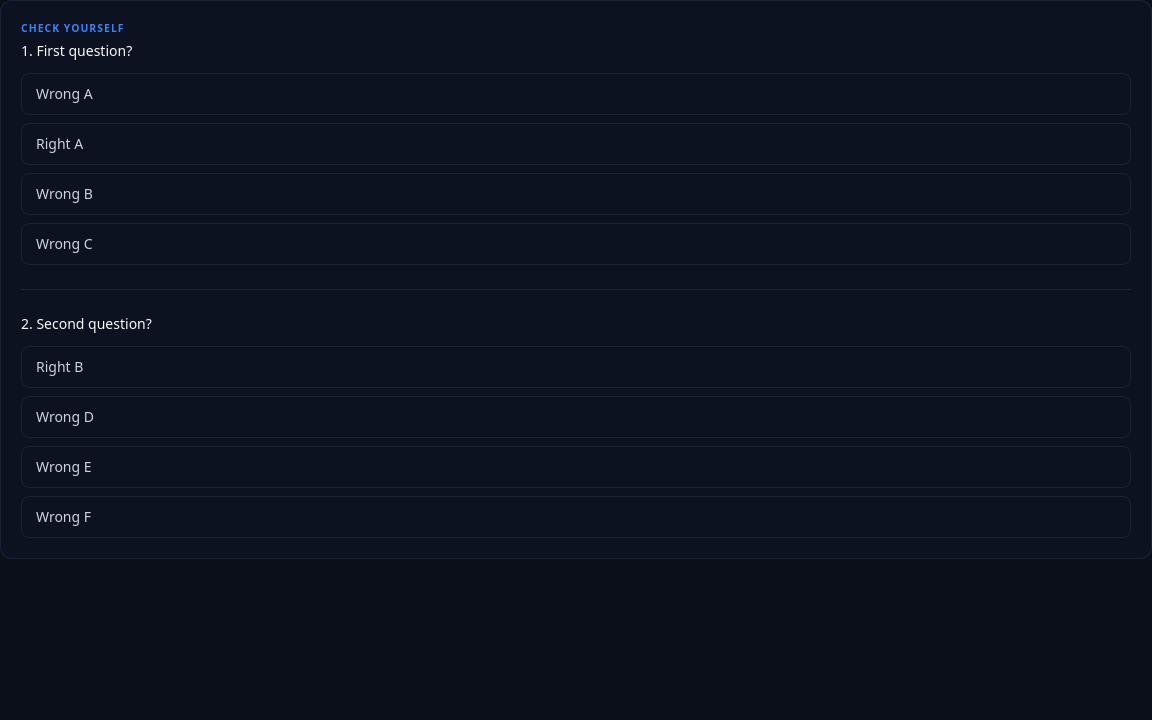
Test case: CheckYourselfQuiz › marks a correct pick as correct and updates the score
Click the button "Right A" at (60, 143), box [21,123,1131,165]
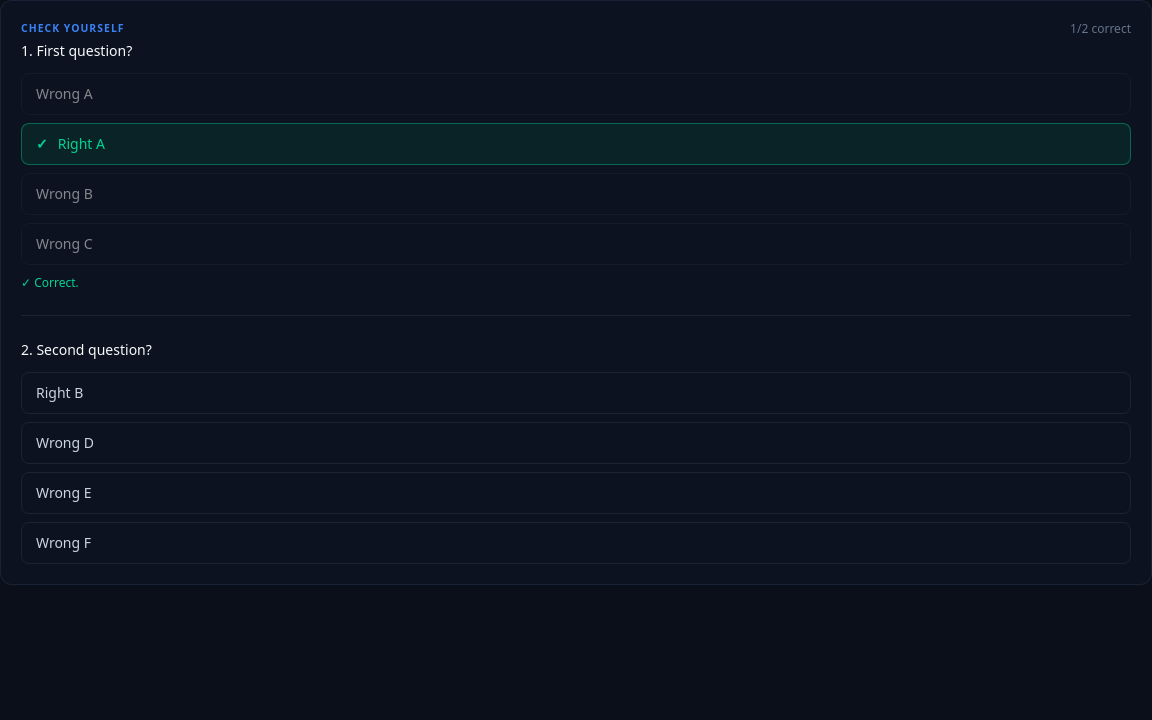
expect the text "✓ Correct." is shown: met, box [21,274,79,291]
expect the text "1/2 correct" is shown: met, box [1070,21,1131,37]
